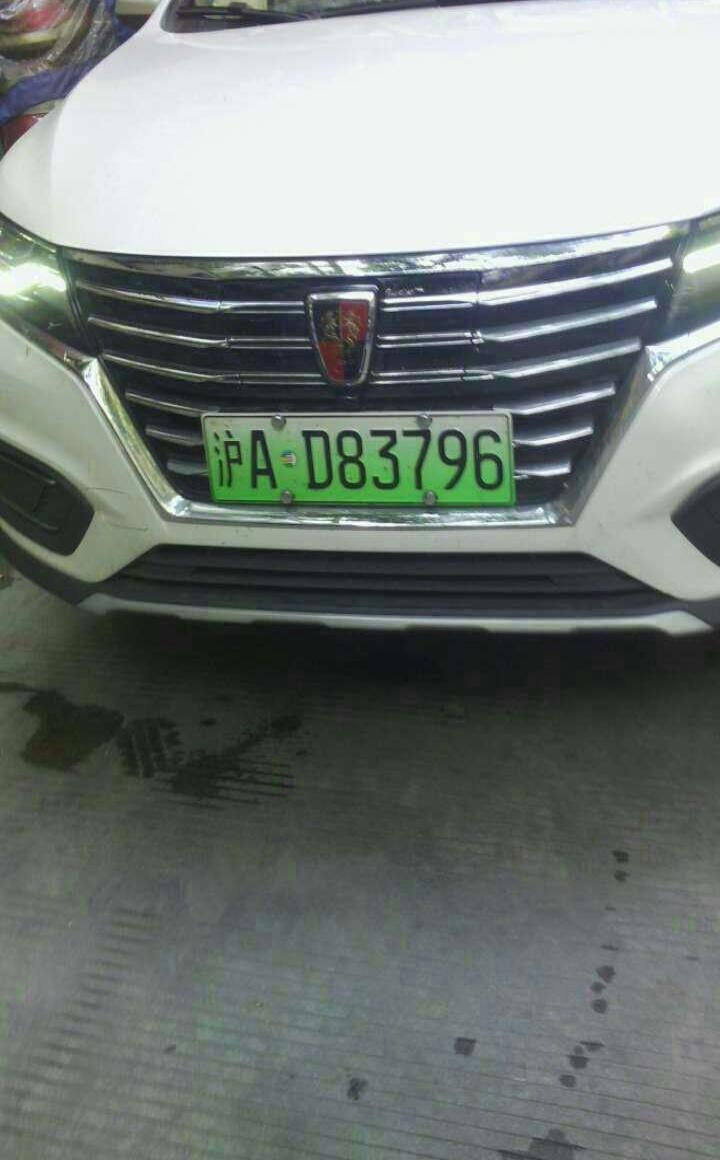car_id: (203, 413, 509, 505)
